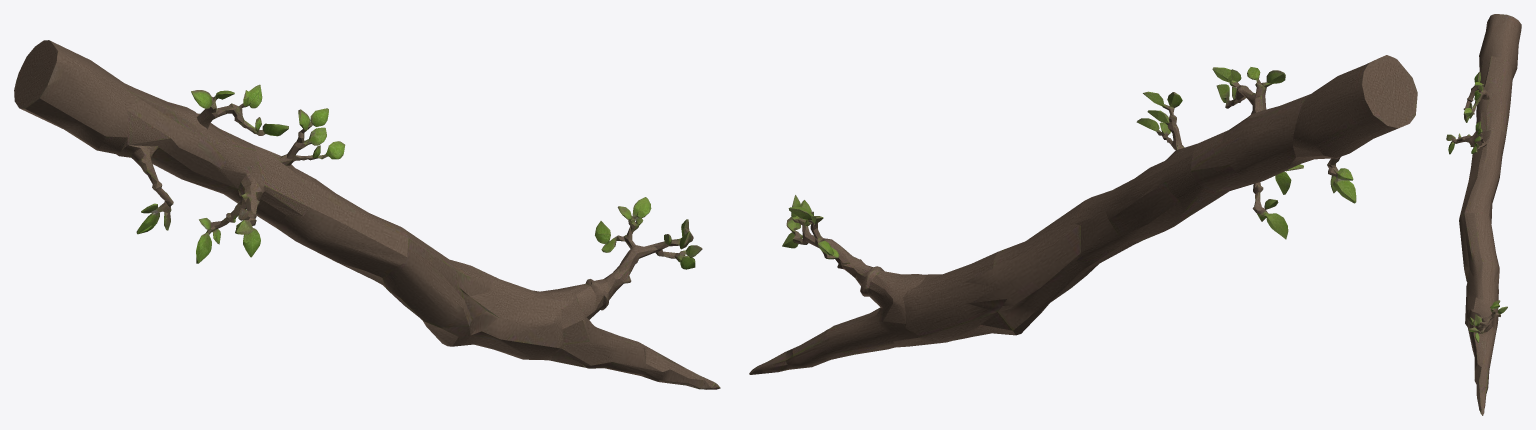
File: longBranch.glb
3 views of the same model, side by side, from view 1: azimuth 30°, elevation 25°; view 2: azimuth 150°, elevation 25°; view 3: azimuth 270°, elevation 25° (orthographic). The views are drawn at different scales.
Bounding box in the file's own units: 1.9 × 1.3 × 0.3641.
1 material, 1 textured.
